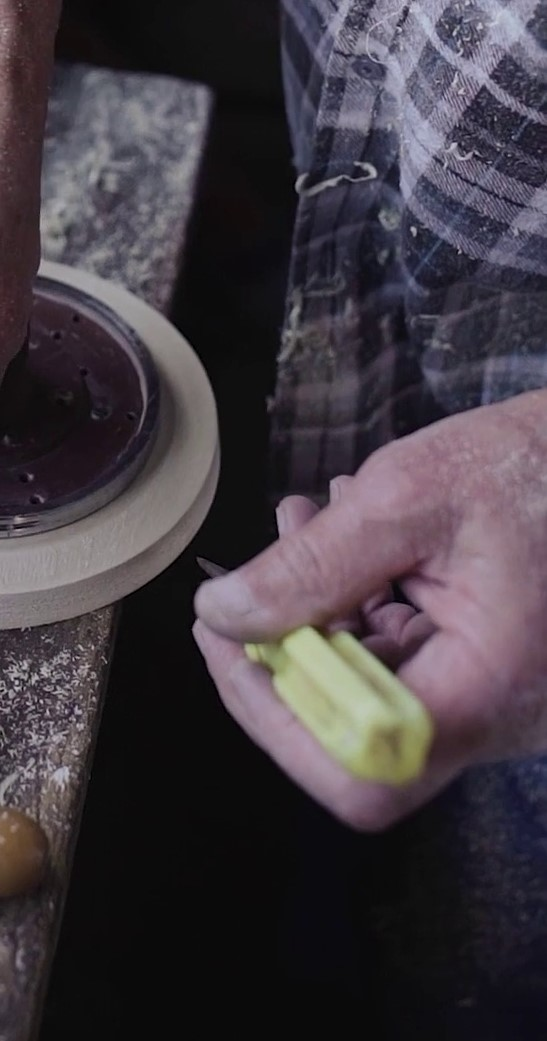screwdriver: (185, 539, 444, 809)
